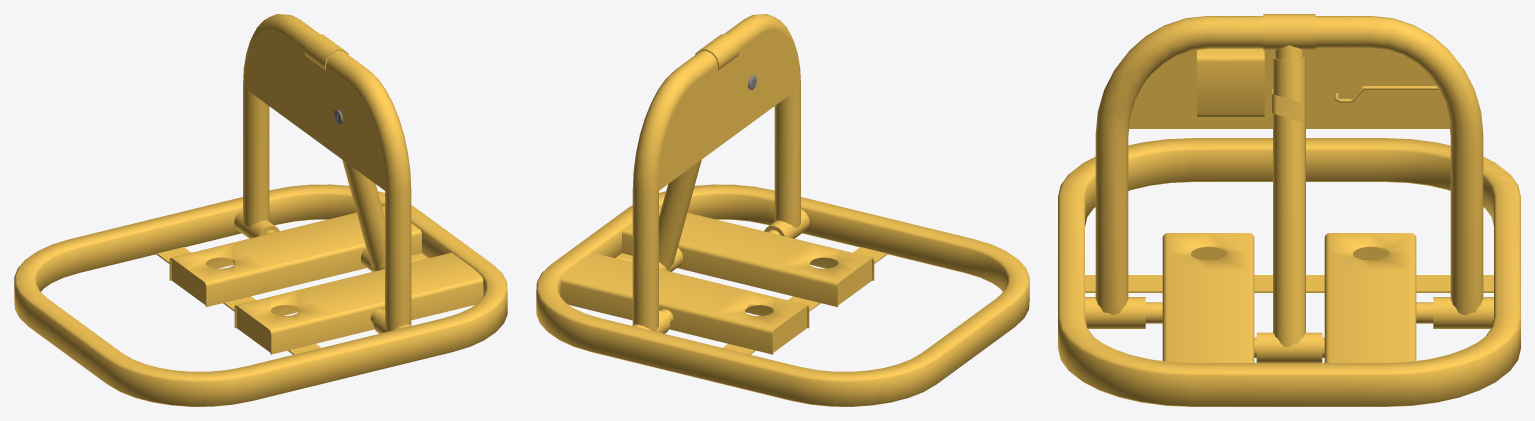
File: Ground_Lock.fbx
The picture shows the model from 3 angles, left to right: view 1: azimuth 30°, elevation 25°; view 2: azimuth 150°, elevation 25°; view 3: azimuth 270°, elevation 25°; orthographic projection. The views are drawn at different scales.
Visible parts, largest first — view 1: Ground_Lock; view 2: Ground_Lock; view 3: Ground_Lock.
Part boxes in pixels (x1,y1,x2,y2): Ground_Lock: (14,14,507,406); Ground_Lock: (536,14,1029,406); Ground_Lock: (1058,14,1520,406).
Size of the model in its own units: 0.58 by 0.36 by 0.48.
